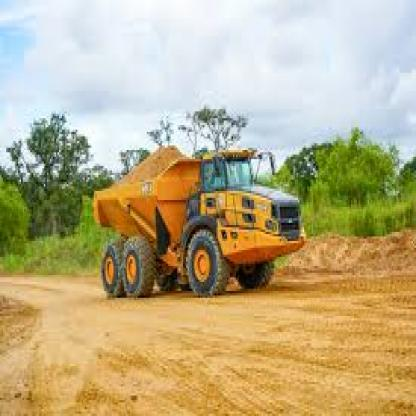dump_truck: (89, 129, 351, 307)
